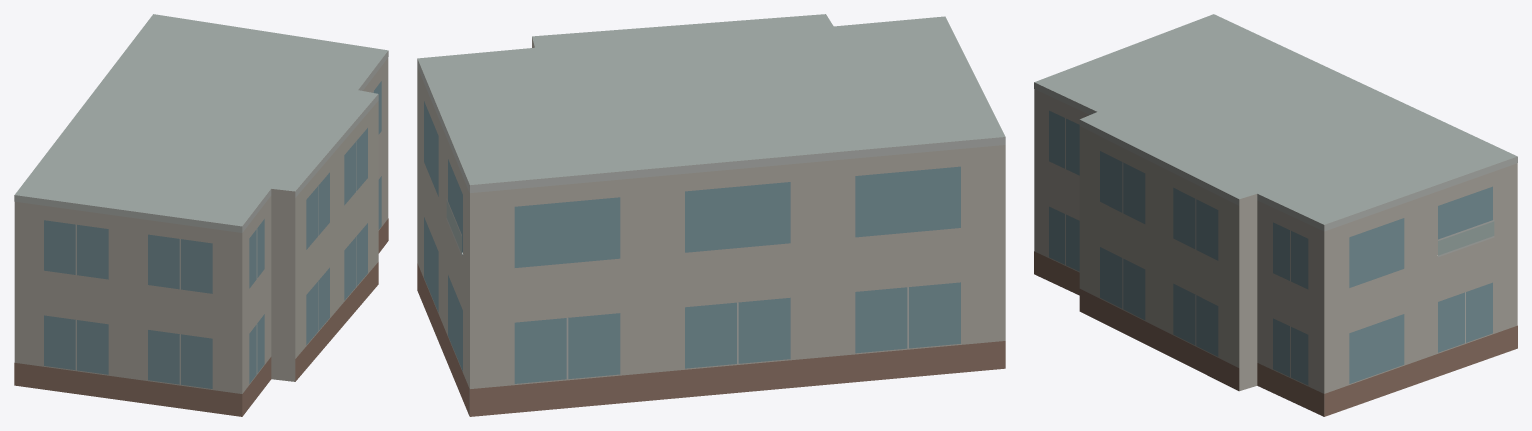
Rendered from survey-upis-32638748.glb.
3 views of the same model, side by side, from view 1: azimuth 30°, elevation 25°; view 2: azimuth 150°, elevation 25°; view 3: azimuth 270°, elevation 25° (orthographic). The views are drawn at different scales.
Visible parts, largest first — view 1: survey-upis-32638748.tmp; view 2: survey-upis-32638748.tmp; view 3: survey-upis-32638748.tmp.
Boxes of the visible parts, x1=… form: survey-upis-32638748.tmp: x1=14, y1=14, x2=388, y2=416; survey-upis-32638748.tmp: x1=417, y1=14, x2=1005, y2=416; survey-upis-32638748.tmp: x1=1034, y1=14, x2=1517, y2=416.
Bounding box in the file's own units: 16.62 × 7.05 × 16.1.
